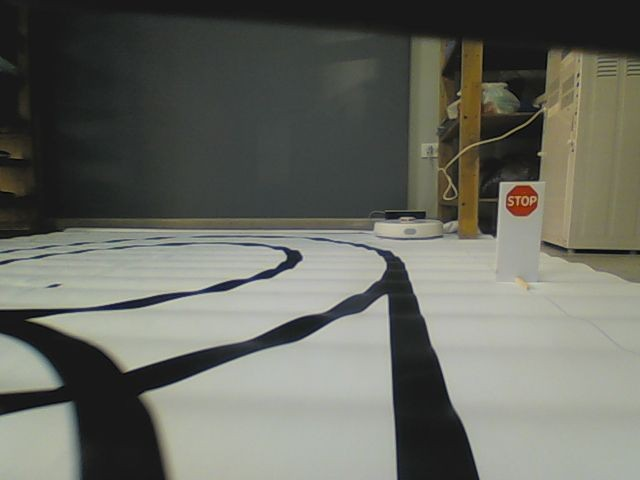Stop: (504, 185, 542, 218)
